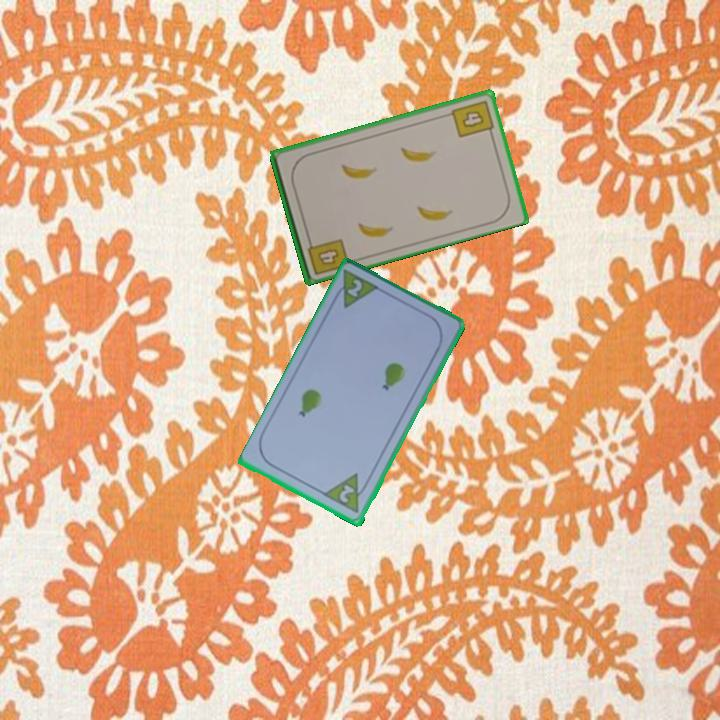2p: (328, 267, 383, 312), (321, 470, 373, 517)
4b: (304, 233, 351, 278), (448, 96, 496, 140)
